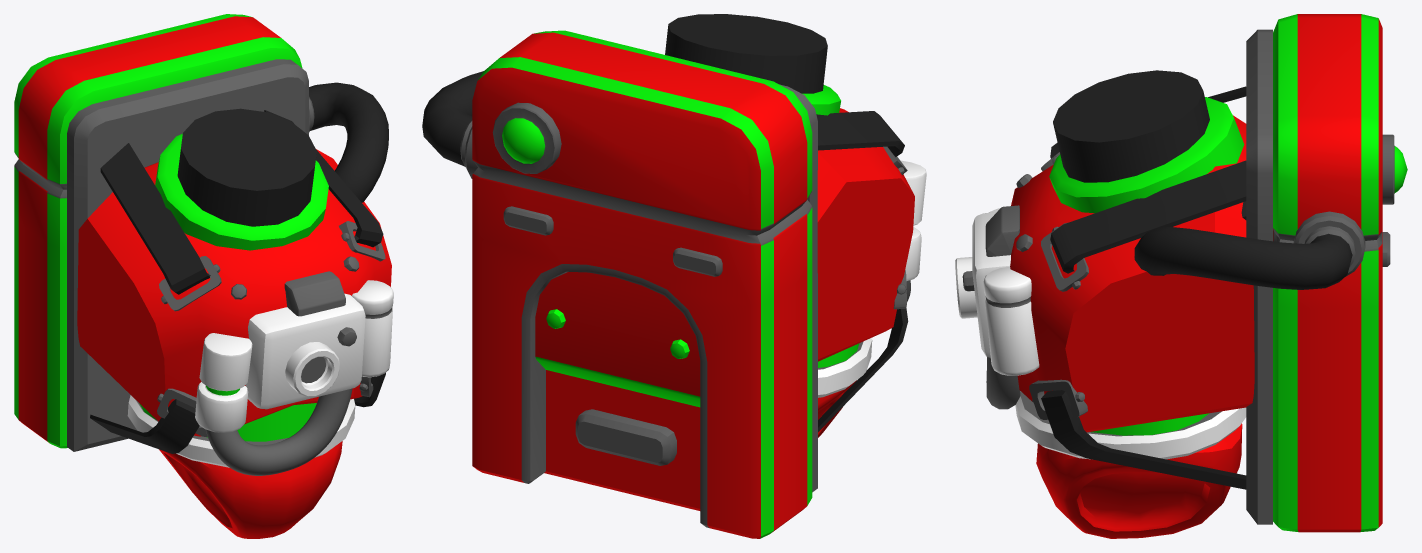
Rendered from Moonboy_Torso.fbx.
3 views of the same model, side by side, from view 1: azimuth 30°, elevation 25°; view 2: azimuth 150°, elevation 25°; view 3: azimuth 270°, elevation 25° (orthographic). The views are drawn at different scales.
Visible parts, largest first — view 1: Moonboy_Torso; view 2: Moonboy_Torso; view 3: Moonboy_Torso.
Boxes of the visible parts, x1=… form: Moonboy_Torso: x1=14, y1=14, x2=393, y2=538; Moonboy_Torso: x1=422, y1=14, x2=926, y2=538; Moonboy_Torso: x1=955, y1=14, x2=1407, y2=538.
Size of the model in its own units: 57.18 by 70.17 by 61.99.
